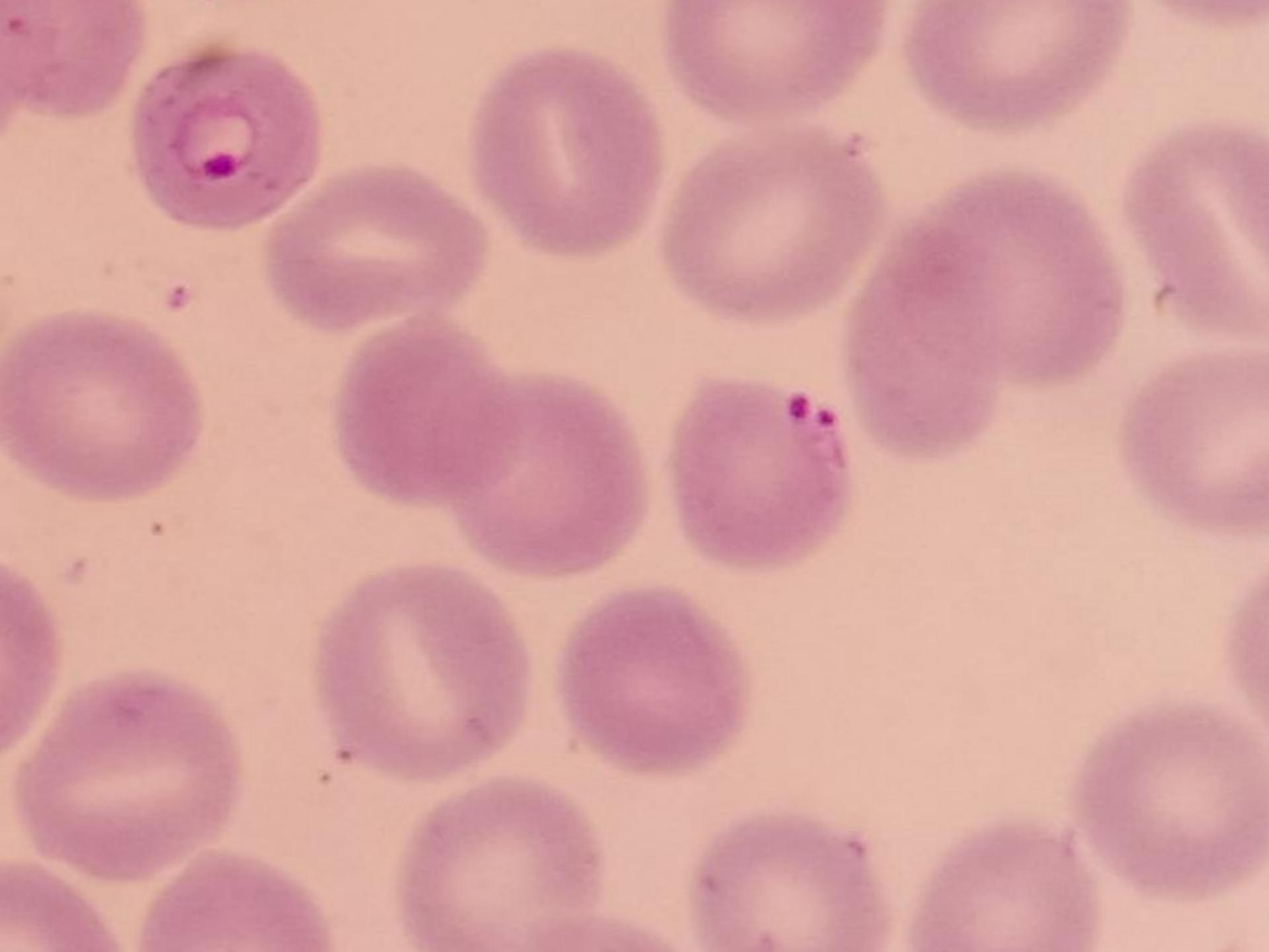Infected: (132, 43, 320, 232), (673, 383, 853, 566)
Uninfected: (314, 564, 527, 771), (925, 167, 1122, 385), (20, 673, 230, 874), (438, 370, 641, 577), (663, 129, 880, 322), (1071, 702, 1269, 903), (478, 53, 661, 261), (0, 311, 200, 496), (264, 164, 482, 332), (846, 223, 997, 455), (397, 778, 600, 948), (557, 590, 744, 771), (340, 312, 517, 500), (909, 0, 1128, 131), (1132, 128, 1269, 330), (1125, 345, 1269, 534), (668, 0, 884, 120), (699, 815, 888, 952), (909, 828, 1102, 952)
